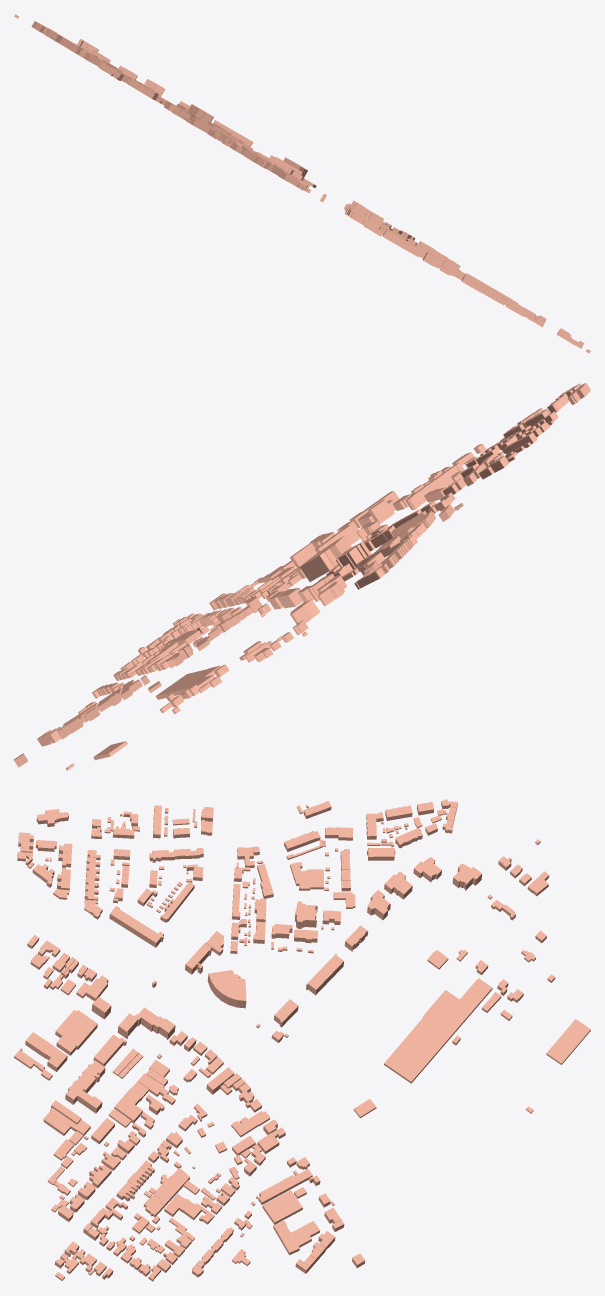
The picture shows the model from 3 angles, top to bottom: view 1: azimuth 30°, elevation 25°; view 2: azimuth 150°, elevation 25°; view 3: azimuth 270°, elevation 25°; orthographic projection. The views are drawn at different scales.
Bounding box in the file's own units: 512 × 381 × 662.
